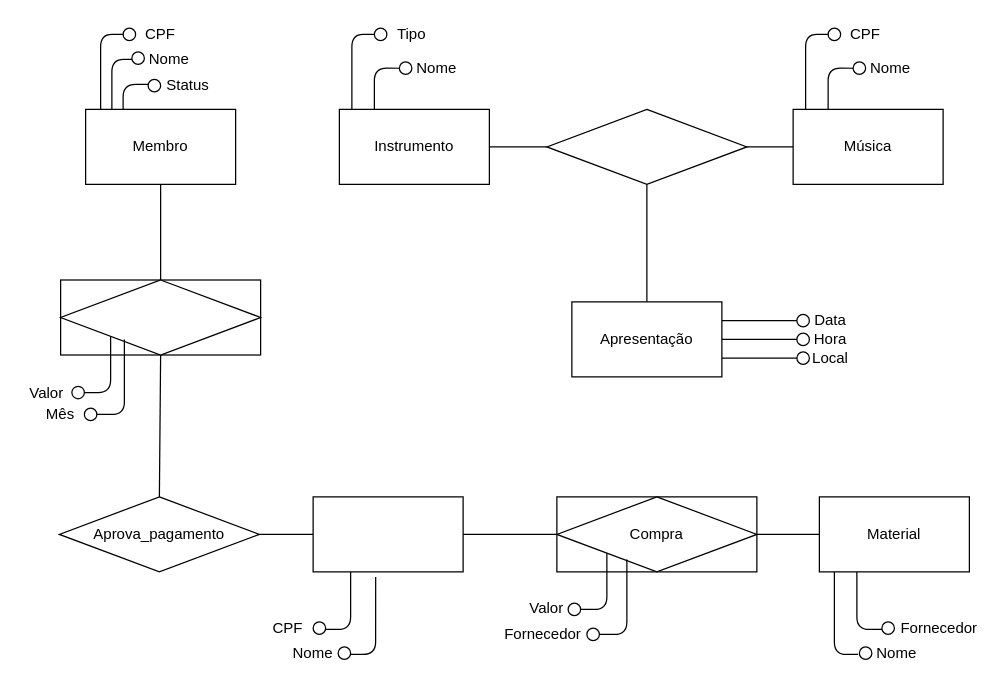
Image size: 999x686. Some labels were removed from this diagram. The shapes that lost their labels are listed below. From the top down, each one's centre as x and y in pixels, then its label:
At [646,146]: "Formação".
At [160,317]: "Mensalidade".
At [387,534]: "Administrador".
